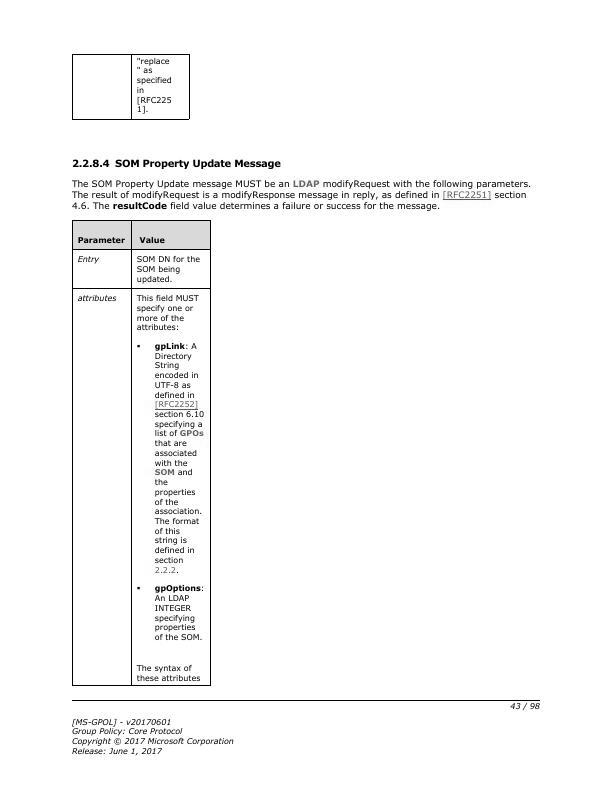table: (73, 220, 212, 686), (72, 55, 189, 120)
text: (69, 176, 535, 212), (69, 715, 235, 756), (71, 156, 283, 170)
